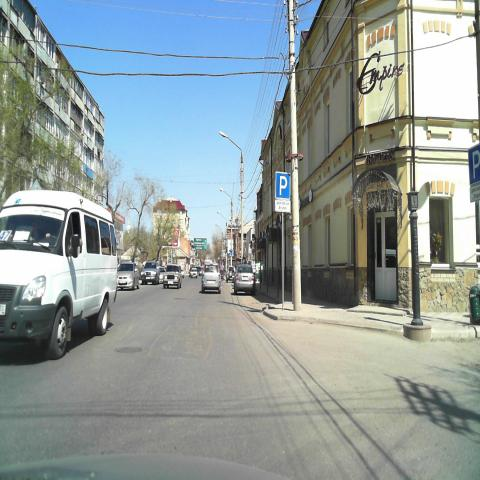6_4: (468, 143, 480, 185), (275, 171, 291, 199)
